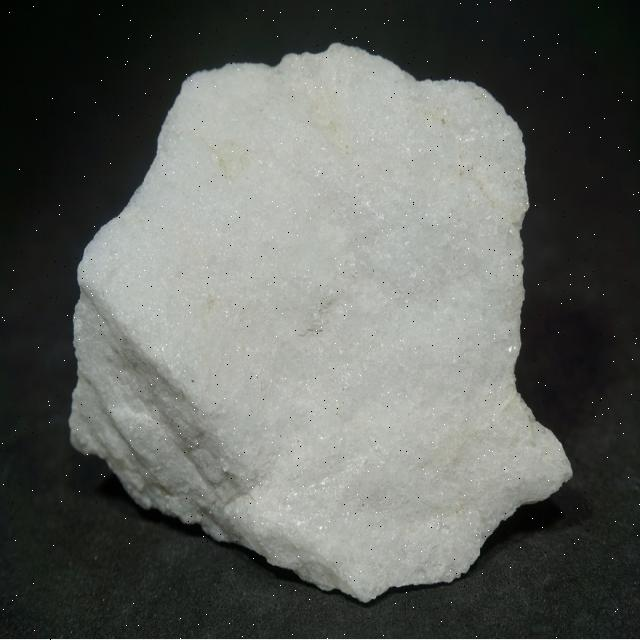Metamorphic: (64, 40, 580, 589)
